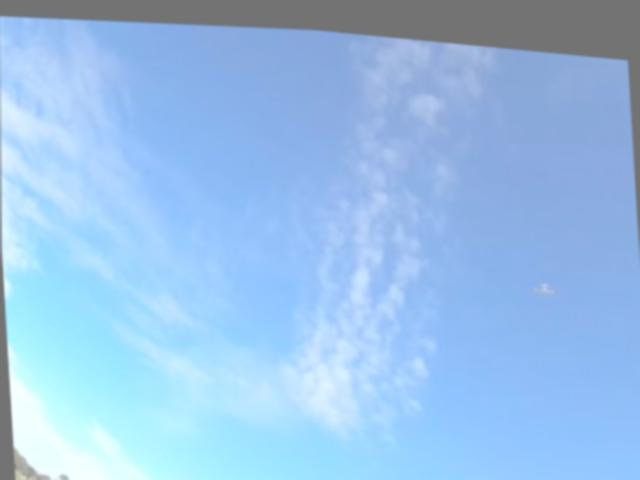uav: (524, 259, 564, 295)
